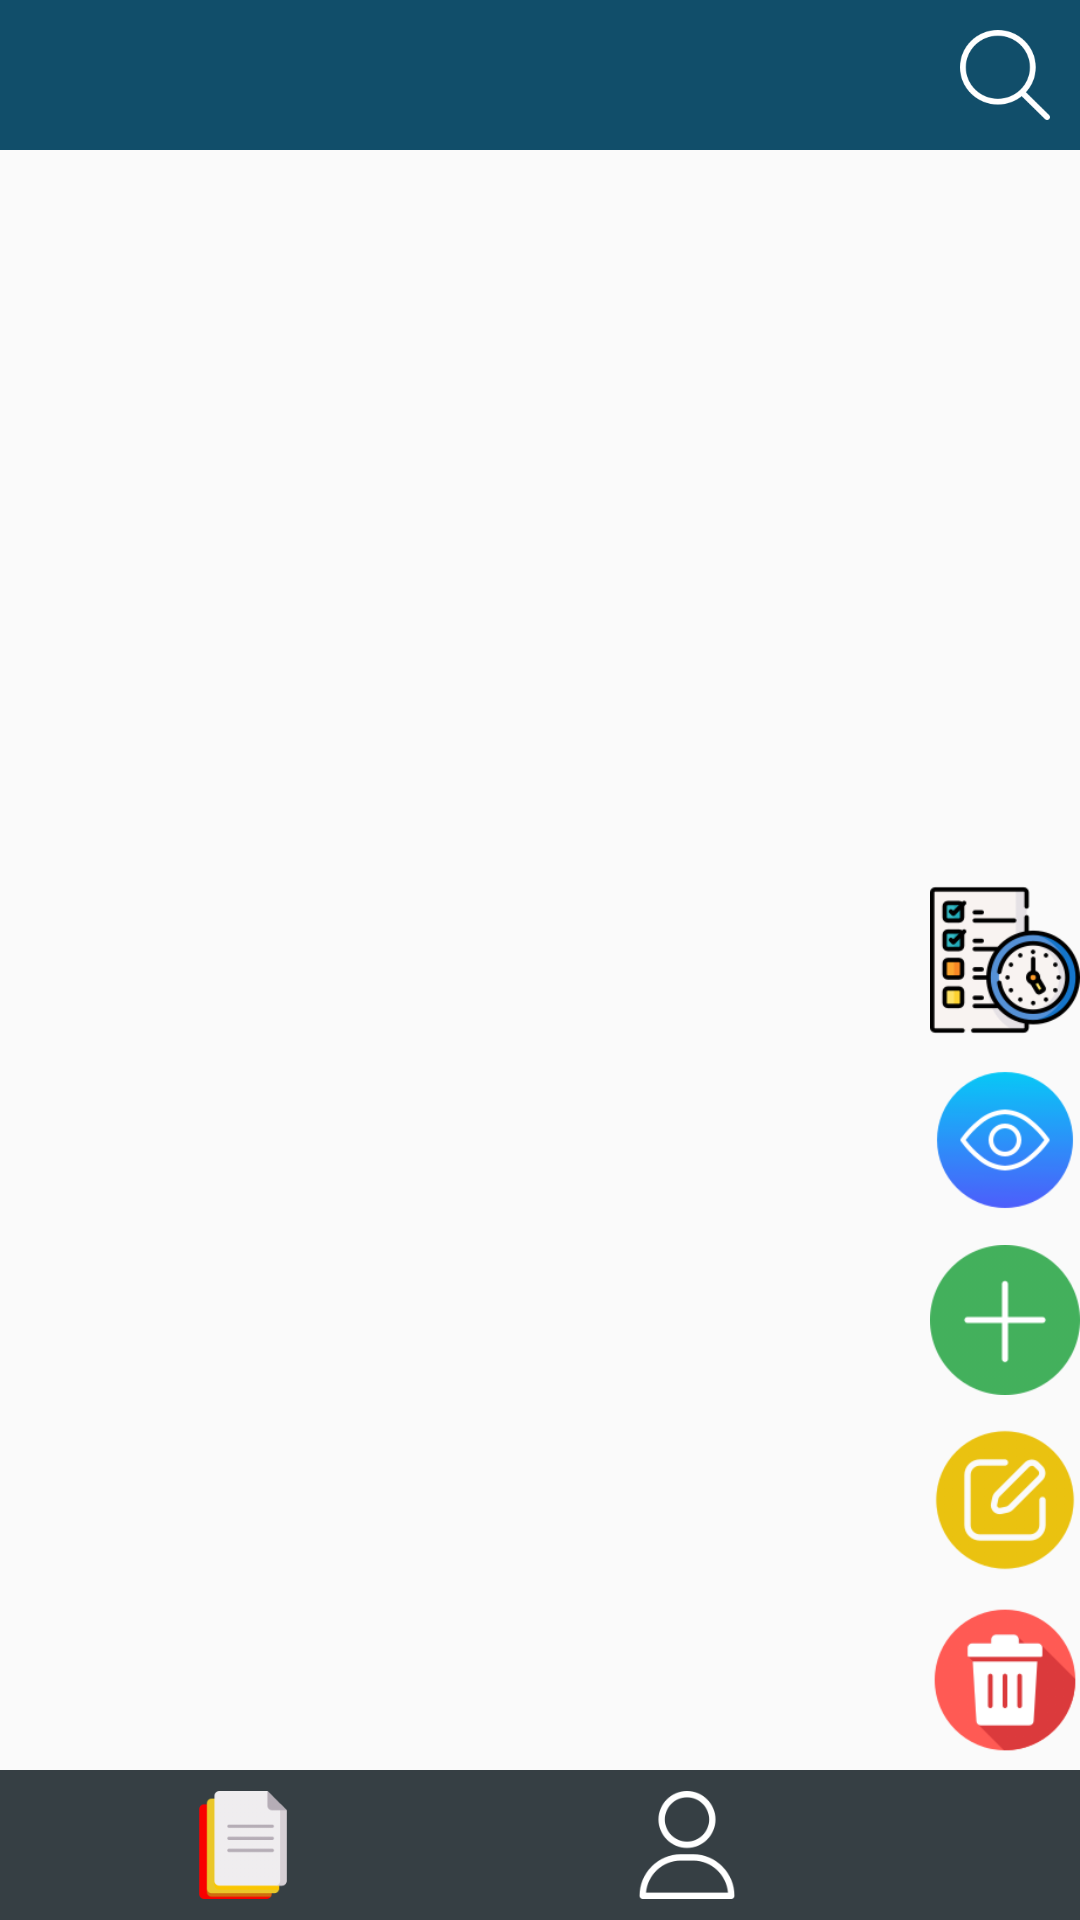

Screen size 1080px×1920px. Icon name, then its center in pixels as point (x, y):
delete: point (1005, 1680)
documents: point (243, 1845)
edit: point (1005, 1500)
eye: point (1005, 1140)
plus: point (1005, 1320)
search: point (1005, 75)
time: point (1005, 960)
user: point (687, 1845)
